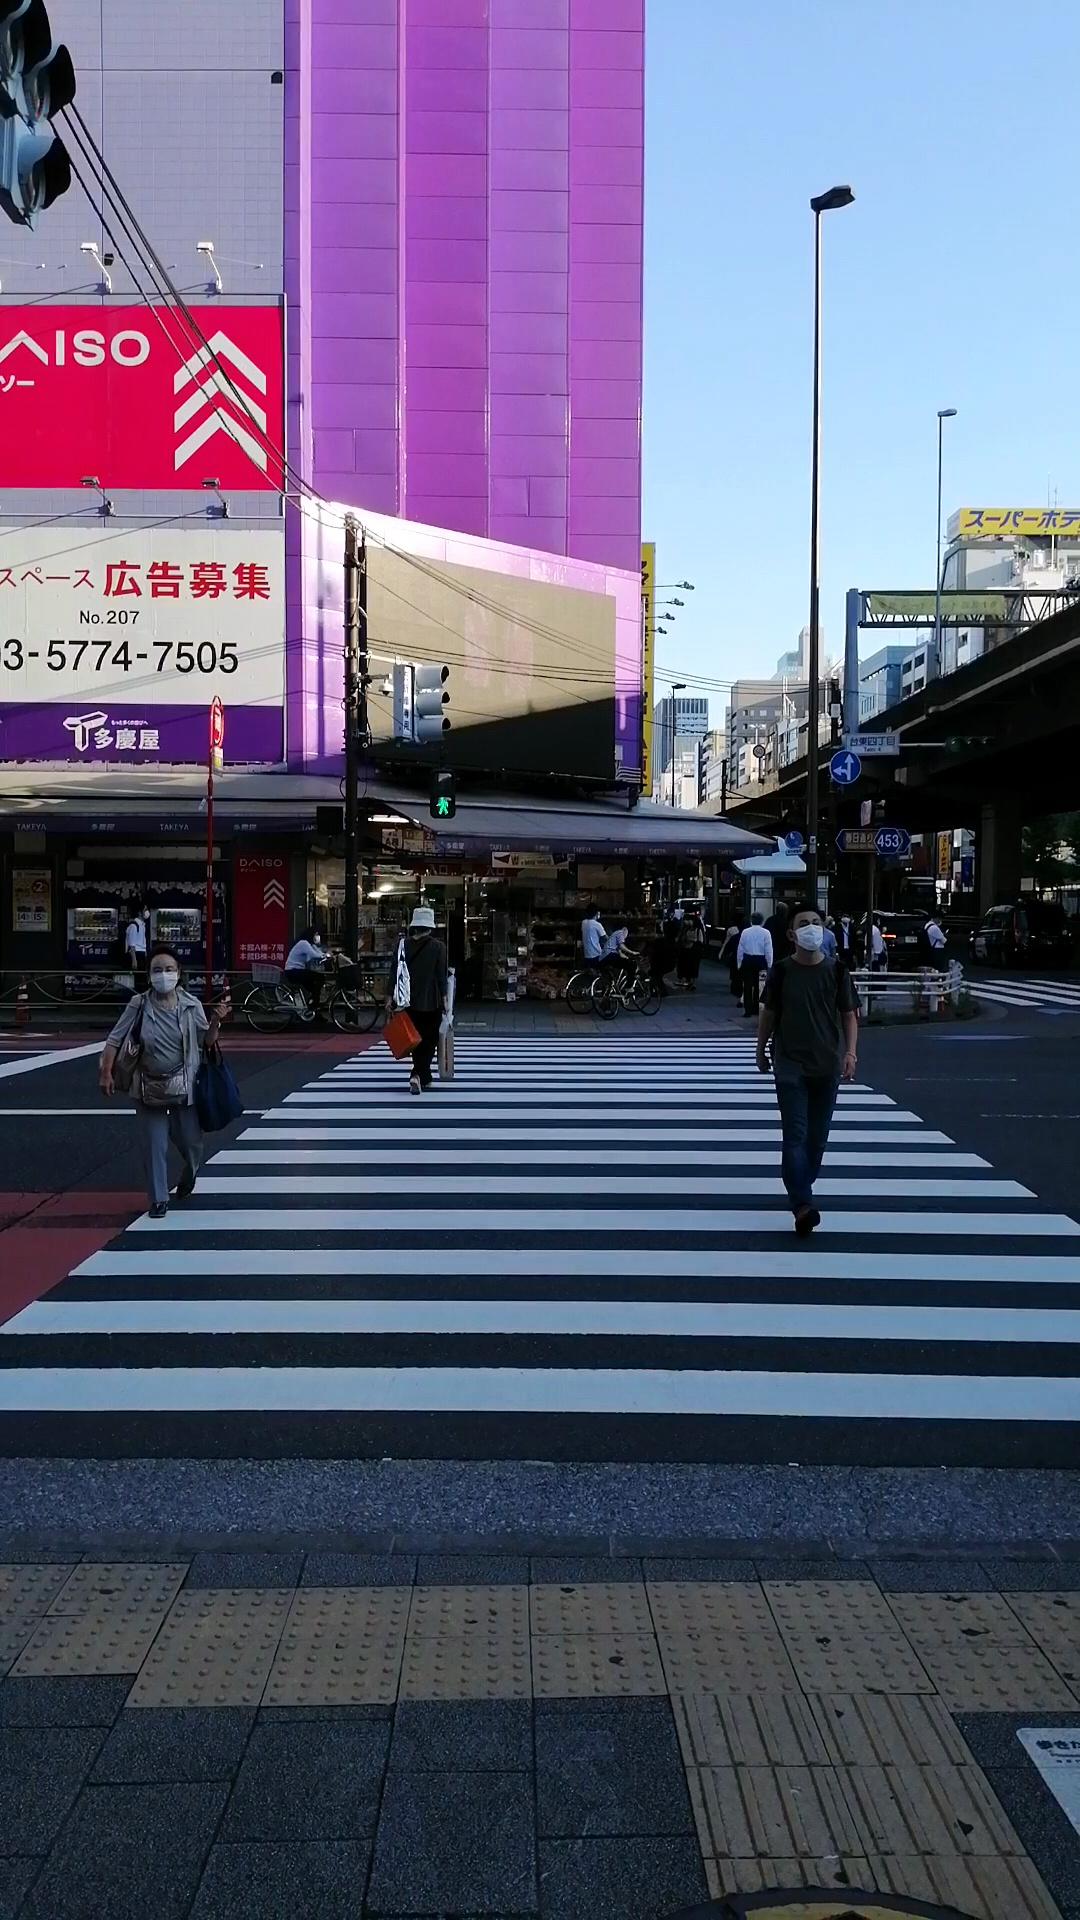green: (426, 760, 456, 820)
